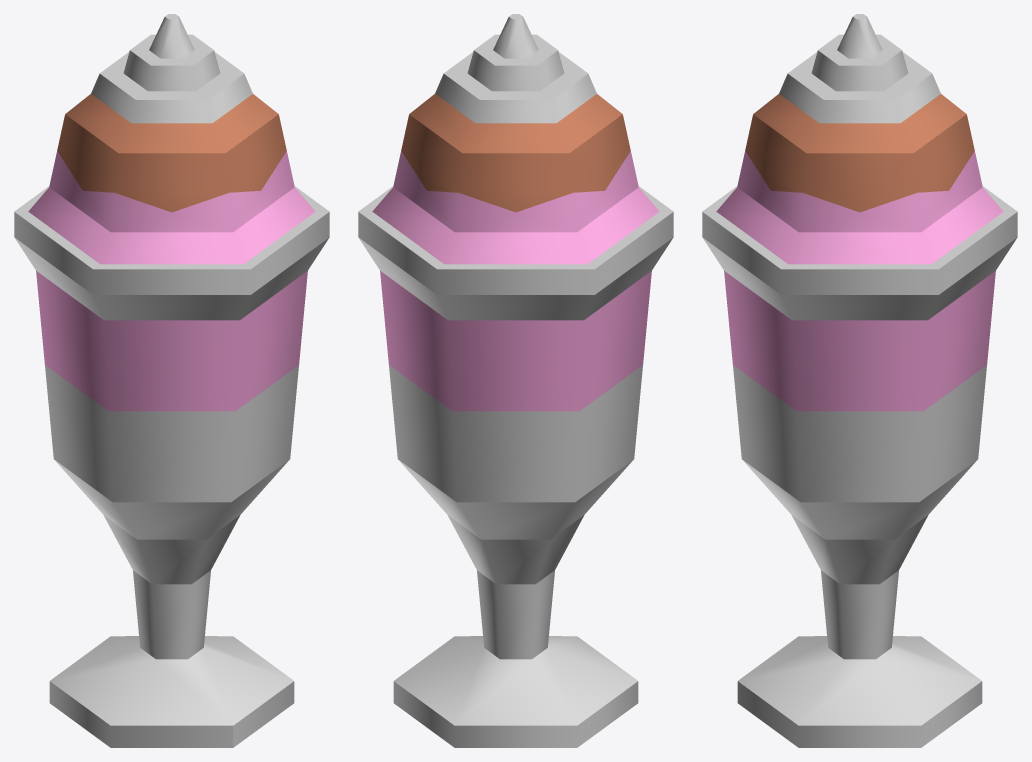
The model's file is sundae.GLB.
3 renders of one model, left to right at view 1: azimuth 30°, elevation 25°; view 2: azimuth 150°, elevation 25°; view 3: azimuth 270°, elevation 25°, orthographic.
Visible parts, largest first — view 1: sundae; view 2: sundae; view 3: sundae.
Part boxes in pixels (bbox=[...]): sundae: bbox=[14, 14, 329, 747]; sundae: bbox=[358, 14, 673, 747]; sundae: bbox=[702, 14, 1017, 747].
Bounding box in the file's own units: 0.2232 × 0.6189 × 0.2577.
